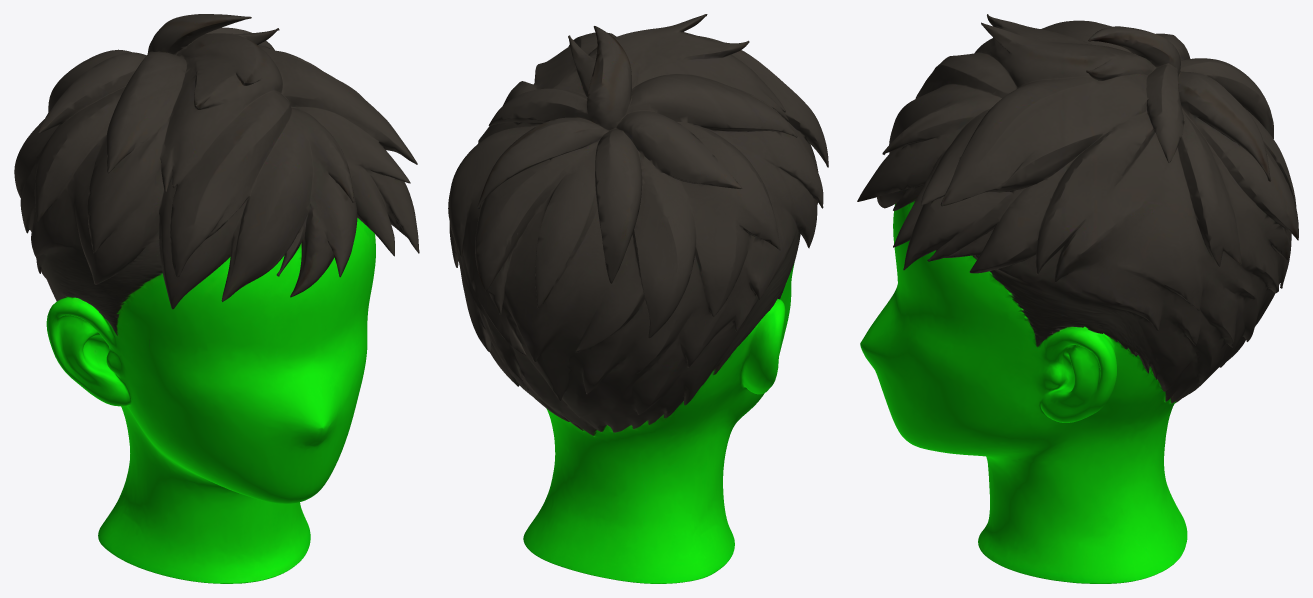
File: hair-haru-crop-v2.glb
The picture shows the model from 3 angles, left to right: view 1: azimuth 30°, elevation 25°; view 2: azimuth 150°, elevation 25°; view 3: azimuth 270°, elevation 25°; orthographic projection. The views are drawn at different scales.
Parts seen in each view (by area): view 1: tripo_node_ba2df71c-cf11-4aec-9c27-1e20629091be; view 2: tripo_node_ba2df71c-cf11-4aec-9c27-1e20629091be; view 3: tripo_node_ba2df71c-cf11-4aec-9c27-1e20629091be.
Boxes of the visible parts, <box> form: tripo_node_ba2df71c-cf11-4aec-9c27-1e20629091be: <box>14,14,419,583</box>; tripo_node_ba2df71c-cf11-4aec-9c27-1e20629091be: <box>448,14,828,583</box>; tripo_node_ba2df71c-cf11-4aec-9c27-1e20629091be: <box>857,14,1298,583</box>.
Size of the model in its own units: 0.6348 by 0.9796 by 0.75.
1 material, 1 textured.
